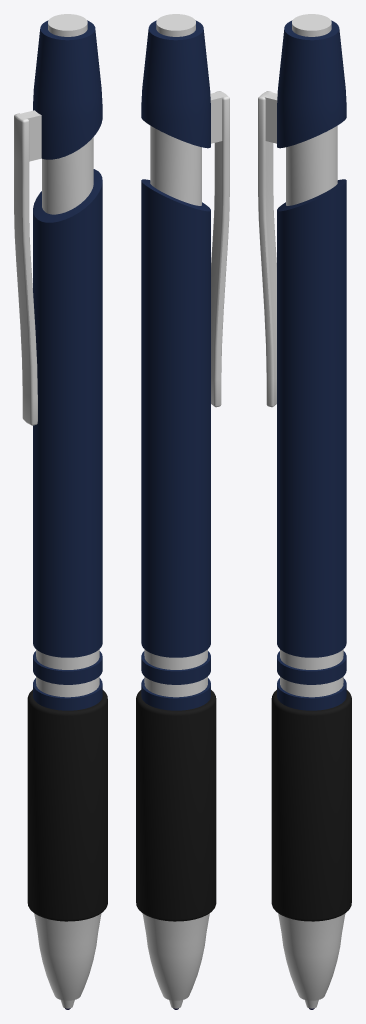
File: pen.glb
The picture shows the model from 3 angles, left to right: view 1: azimuth 30°, elevation 25°; view 2: azimuth 210°, elevation 25°; view 3: azimuth 330°, elevation 25°; orthographic projection.
Parts seen in each view (by area): view 1: Cylinder, Cylinder.002, Cylinder.001; view 2: Cylinder, Cylinder.002, Cylinder.001; view 3: Cylinder, Cylinder.002, Cylinder.001.
Part boxes in pixels (<box>): Cylinder: <box>33,20,102,710</box>; Cylinder.002: <box>27,689,107,921</box>; Cylinder.001: <box>14,14,101,1008</box>; Cylinder: <box>141,20,210,710</box>; Cylinder.002: <box>136,690,216,921</box>; Cylinder.001: <box>142,14,229,1008</box>; Cylinder: <box>277,20,346,710</box>; Cylinder.002: <box>271,690,351,921</box>; Cylinder.001: <box>258,14,345,1008</box>.
Bounding box in the file's own units: 0.0194 × 0.215 × 0.0159.
